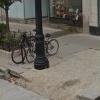Bicycle: (5, 26, 65, 72)
